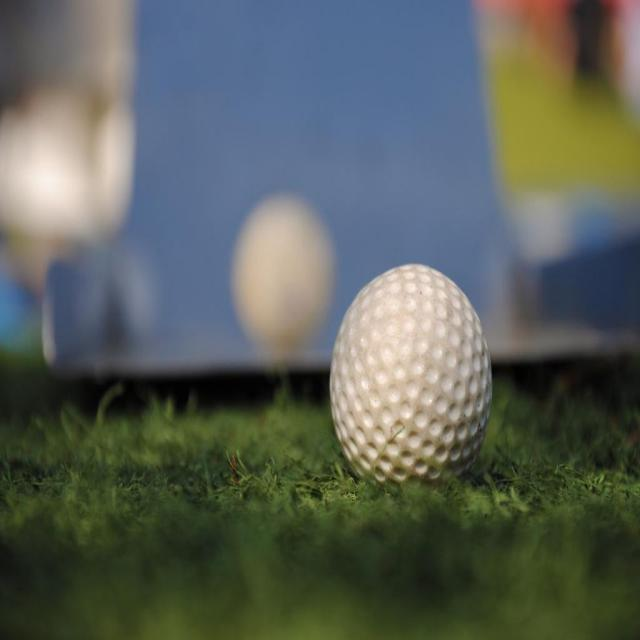GolfBall: (317, 251, 503, 487)
